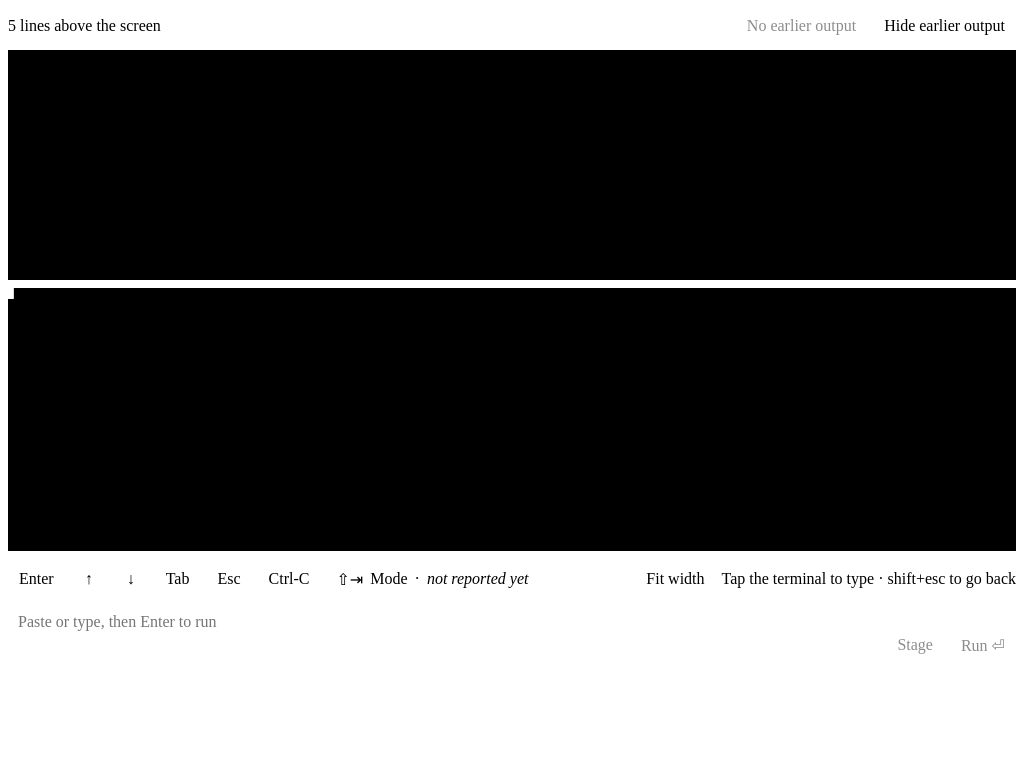
the surface › draws the held lines above the live capture, and says how many
Expected: the text with test id "history-caption" shows "5 lines", [8,17,161,34]
Expected: the button with test id "history-more" is disabled, [736,8,867,44]
Click the button with test id "history-hide": (945, 26) [873,8,1016,44]
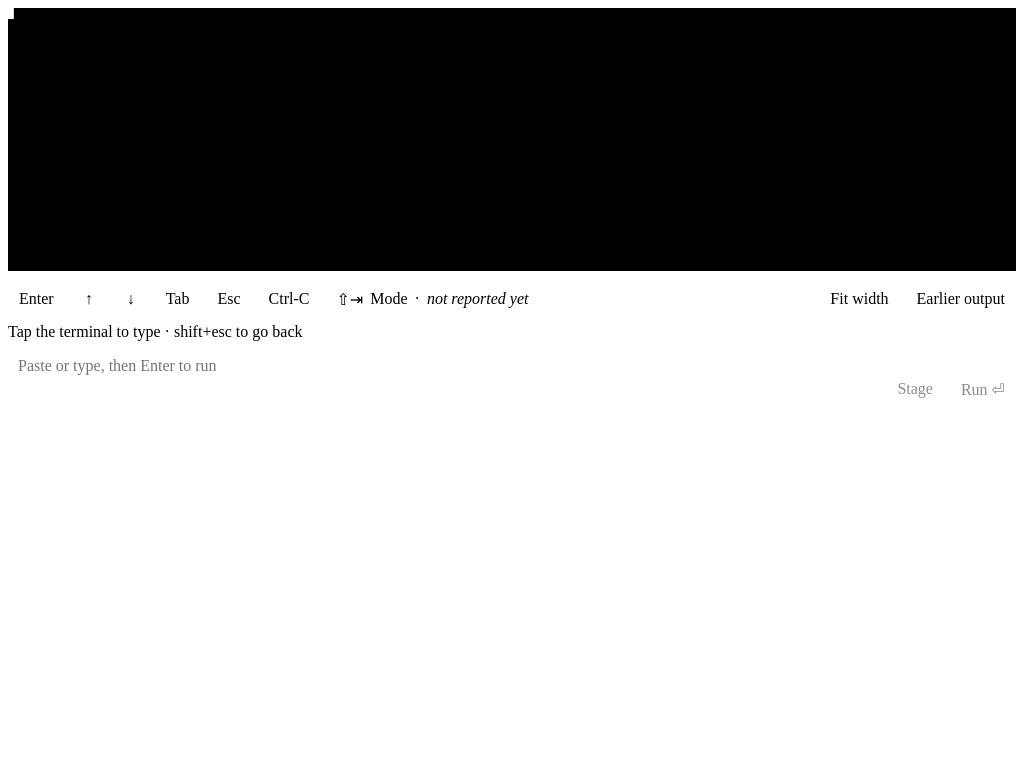
Now the number of buttons with test id "history-toggle" is 1, box [906,281,1016,317]
